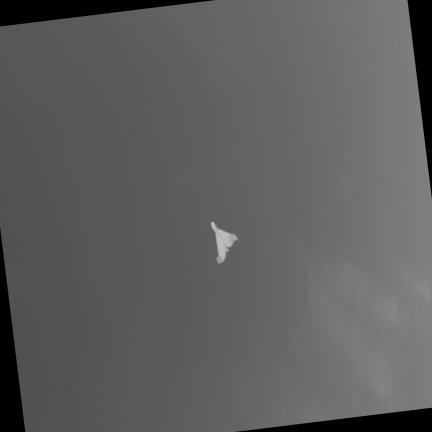Shahed: (211, 221, 236, 261)
